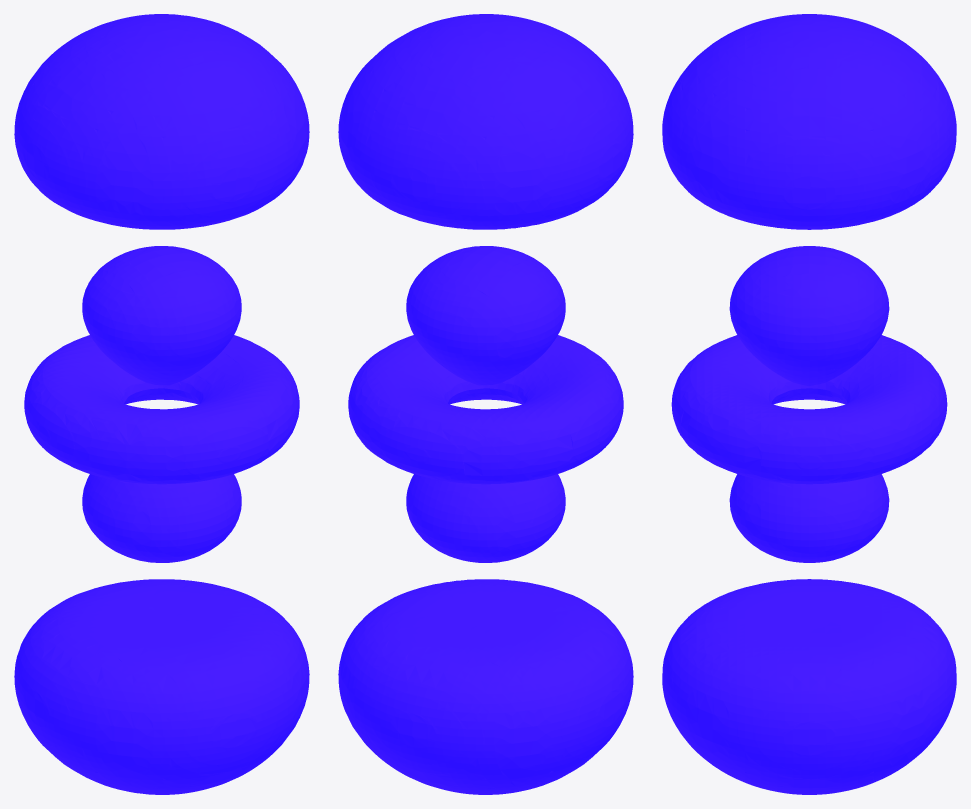
3 renders of one model, left to right at view 1: azimuth 30°, elevation 25°; view 2: azimuth 150°, elevation 25°; view 3: azimuth 270°, elevation 25°, orthographic.
Visible parts, largest first — view 1: 4dz2; view 2: 4dz2; view 3: 4dz2.
Part boxes in pixels (bbox=[...]): 4dz2: bbox=[14, 14, 309, 794]; 4dz2: bbox=[338, 14, 633, 794]; 4dz2: bbox=[662, 14, 956, 794].
Size of the model in its own units: 10.95 by 30.62 by 10.95.
